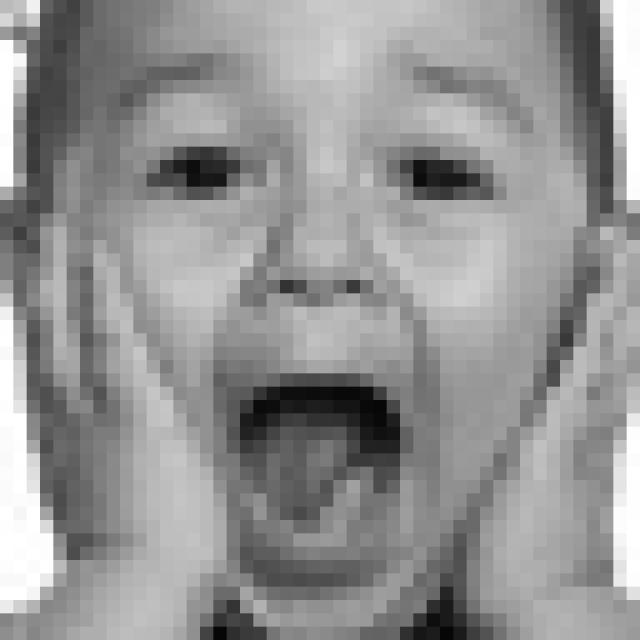fear: (106, 47, 547, 597)
